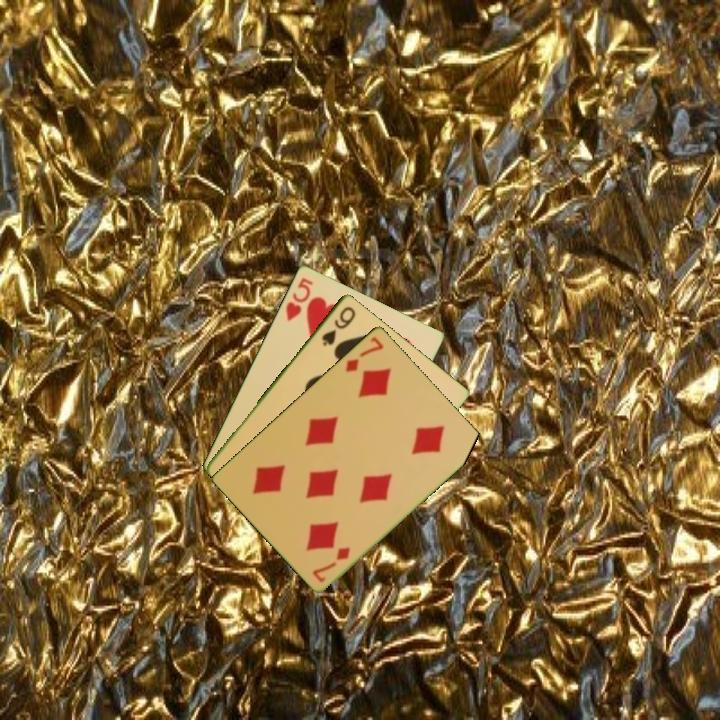5h: (282, 274, 316, 323)
7d: (342, 333, 386, 375), (309, 543, 353, 585)
9s: (318, 302, 358, 348)
